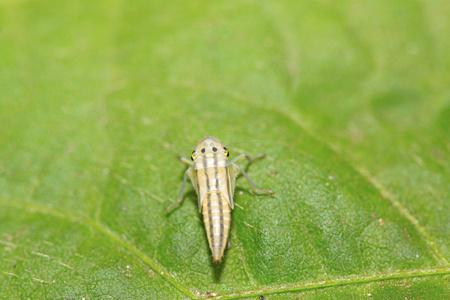Cicadellidae: (164, 136, 274, 264)
